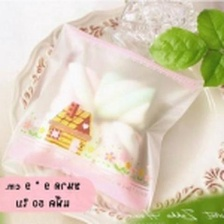snack: (0, 16, 210, 219)
